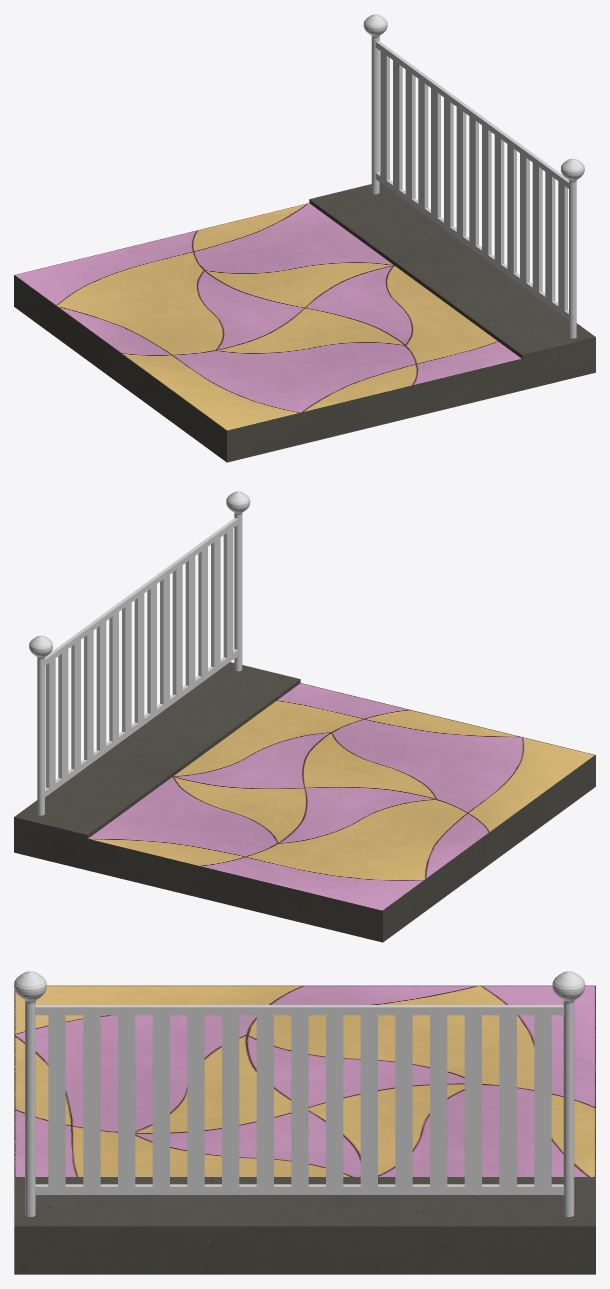
File: tile_edge.fbx
3 renders of one model, top to bottom at view 1: azimuth 30°, elevation 25°; view 2: azimuth 150°, elevation 25°; view 3: azimuth 270°, elevation 25°, orthographic. The views are drawn at different scales.
Parts seen in each view (by area): view 1: Cube.006; view 2: Cube.006; view 3: Cube.006.
Boxes of the visible parts, bbox=[...] form: Cube.006: bbox=[14, 14, 595, 462]; Cube.006: bbox=[14, 491, 595, 942]; Cube.006: bbox=[14, 971, 595, 1274].
Size of the model in its own units: 100 by 55.24 by 100.
